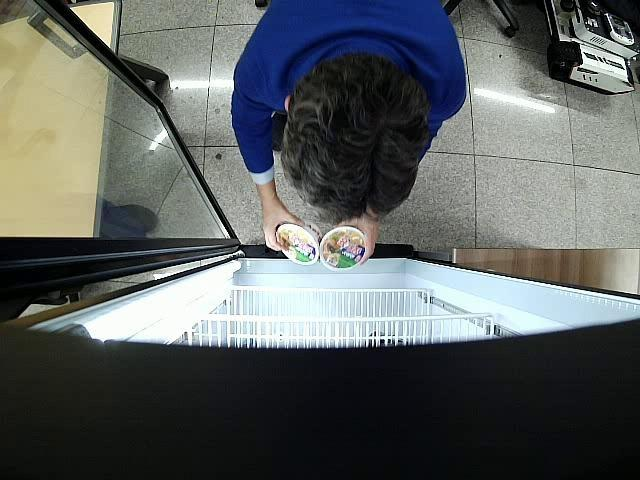09_yukGaeJang: (276, 222, 322, 266), (320, 226, 364, 271)
